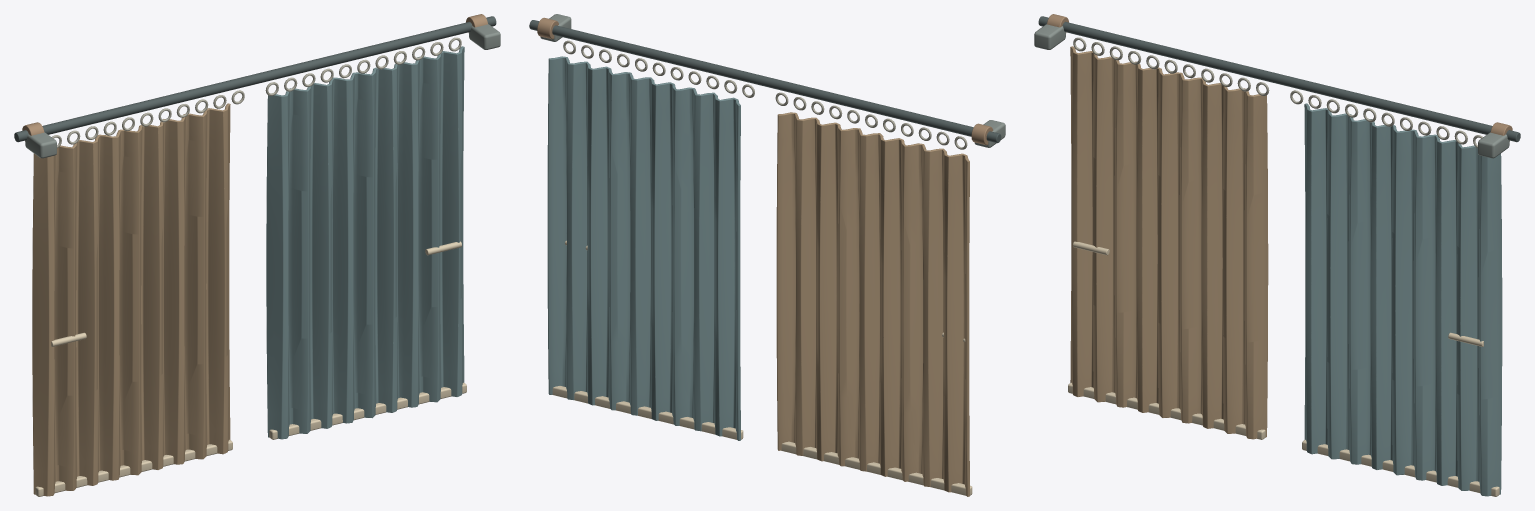
The model's file is classroom_window_curtains.glb.
3 renders of one model, left to right at view 1: azimuth 30°, elevation 25°; view 2: azimuth 150°, elevation 25°; view 3: azimuth 330°, elevation 25°, orthographic. The views are drawn at different scales.
Parts seen in each view (by area): view 1: Curtain_right_panel, Curtain_left_panel, Curtain_rail, Curtain_left_hem, Curtain_right_hem, Curtain_wall_bracket.001, Curtain_wall_bracket; view 2: Curtain_right_panel, Curtain_left_panel, Curtain_rail, Curtain_left_hem, Curtain_right_hem; view 3: Curtain_left_panel, Curtain_right_panel, Curtain_rail, Curtain_right_hem, Curtain_left_hem, Curtain_wall_bracket, Curtain_wall_bracket.001.
Boxes of the visible parts, box(x1,y1,x2,y2) form: Curtain_right_panel: box(266, 46, 464, 439); Curtain_left_panel: box(32, 103, 230, 496); Curtain_rail: box(14, 16, 496, 142); Curtain_left_hem: box(35, 439, 232, 496); Curtain_right_hem: box(269, 382, 466, 439); Curtain_wall_bracket.001: box(469, 24, 500, 49); Curtain_wall_bracket: box(25, 132, 56, 158); Curtain_right_panel: box(547, 56, 740, 440); Curtain_left_panel: box(776, 112, 969, 496); Curtain_rail: box(529, 20, 1001, 143); Curtain_left_hem: box(781, 441, 972, 495); Curtain_right_hem: box(552, 386, 743, 439); Curtain_left_panel: box(1070, 46, 1268, 439); Curtain_right_panel: box(1304, 103, 1502, 496); Curtain_rail: box(1038, 16, 1520, 142); Curtain_right_hem: box(1302, 439, 1499, 496); Curtain_left_hem: box(1068, 382, 1265, 439); Curtain_wall_bracket: box(1034, 24, 1065, 49); Curtain_wall_bracket.001: box(1478, 132, 1509, 158).
Size of the model in its own units: 1.96 by 1.48 by 0.1764.
